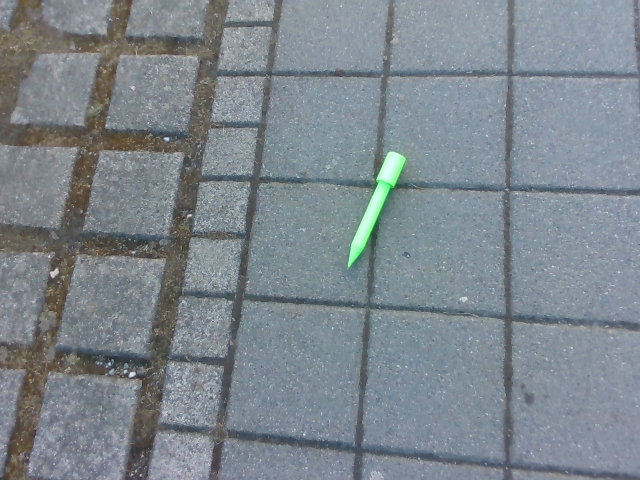Probe: (343, 145, 405, 274)
